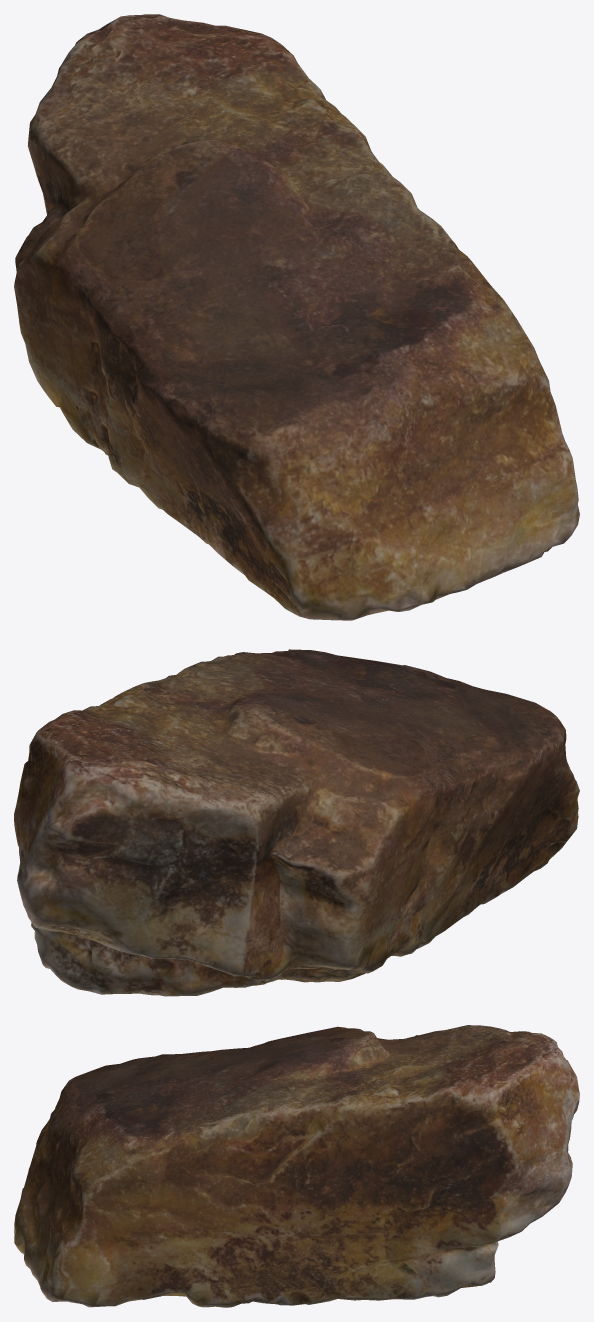
Rendered from rock_07_LOD1.glb.
3 views of the same model, one above another, from view 1: azimuth 30°, elevation 25°; view 2: azimuth 150°, elevation 25°; view 3: azimuth 270°, elevation 25° (orthographic). The views are drawn at different scales.
Visible parts, largest first — view 1: rock_07_LOD1.001; view 2: rock_07_LOD1.001; view 3: rock_07_LOD1.001.
Part boxes in pixels (left/top/right/bottom): rock_07_LOD1.001: left=14, top=14, right=579, bottom=620; rock_07_LOD1.001: left=14, top=649, right=579, bottom=996; rock_07_LOD1.001: left=14, top=1025, right=579, bottom=1307.
Size of the model in its own units: 0.169 by 0.1438 by 0.3202.
1 material, 1 textured.
